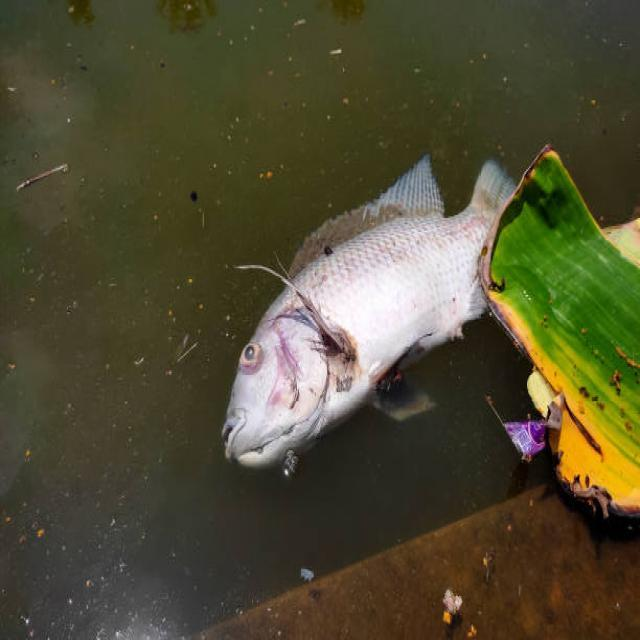EUS Disease: (213, 152, 640, 479)
